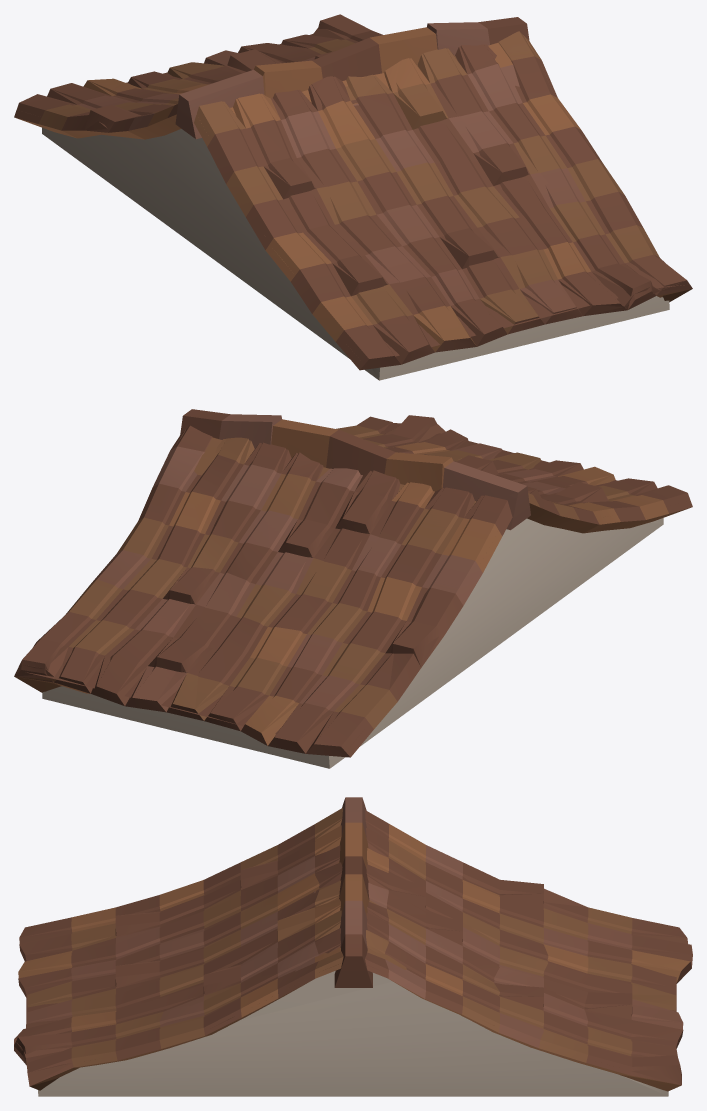
The model's file is Roof 03.fbx.
3 views of the same model, one above another, from view 1: azimuth 30°, elevation 25°; view 2: azimuth 150°, elevation 25°; view 3: azimuth 270°, elevation 25° (orthographic). The views are drawn at different scales.
Visible parts, largest first — view 1: Roof 03 high, Roof 03, Roof 03 low; view 2: Roof 03 high, Roof 03, Roof 03 low; view 3: Roof 03 high, Roof 03, Roof 03 low.
Part boxes in pixels (left/top/right/bottom): Roof 03 high: left=14, top=14, right=690, bottom=380; Roof 03: left=41, top=27, right=692, bottom=364; Roof 03 low: left=126, top=34, right=684, bottom=356; Roof 03 high: left=14, top=409, right=692, bottom=768; Roof 03: left=14, top=419, right=665, bottom=753; Roof 03 low: left=27, top=423, right=617, bottom=746; Roof 03 high: left=14, top=799, right=692, bottom=1096; Roof 03: left=14, top=797, right=692, bottom=1091; Roof 03 low: left=26, top=862, right=677, bottom=1068.
Size of the model in its own units: 2.38 by 1.17 by 4.36.
1 material, 1 textured.
